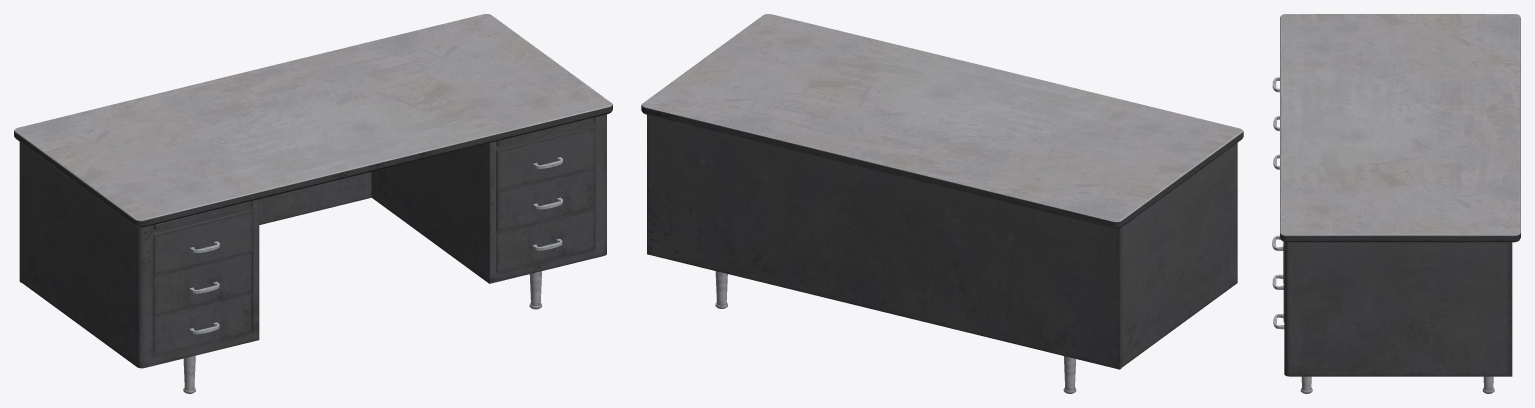
File: metal_office_desk_2k.fbx
The picture shows the model from 3 angles, left to right: view 1: azimuth 30°, elevation 25°; view 2: azimuth 150°, elevation 25°; view 3: azimuth 270°, elevation 25°; orthographic projection. The views are drawn at different scales.
Parts seen in each view (by area): view 1: metal_office_desk, metal_office_desk_drawer_04, metal_office_desk_drawer_01, metal_office_desk_drawer_02, metal_office_desk_drawer_03, metal_office_desk_drawer_06, metal_office_desk_drawer_05, metal_office_desk_tray_01, metal_office_desk_tray_02; view 2: metal_office_desk; view 3: metal_office_desk.
Part boxes in pixels (x1=…): metal_office_desk: x1=14, y1=14, x2=612, y2=393; metal_office_desk_drawer_04: x1=153, y1=210, x2=252, y2=275; metal_office_desk_drawer_01: x1=496, y1=126, x2=595, y2=191; metal_office_desk_drawer_02: x1=496, y1=167, x2=595, y2=231; metal_office_desk_drawer_03: x1=496, y1=208, x2=594, y2=272; metal_office_desk_drawer_06: x1=153, y1=292, x2=251, y2=356; metal_office_desk_drawer_05: x1=153, y1=252, x2=251, y2=315; metal_office_desk_tray_01: x1=153, y1=201, x2=251, y2=230; metal_office_desk_tray_02: x1=496, y1=117, x2=594, y2=146; metal_office_desk: x1=641, y1=14, x2=1243, y2=393; metal_office_desk: x1=1280, y1=14, x2=1520, y2=393.
Size of the model in its own units: 200 by 78.75 by 94.72.
